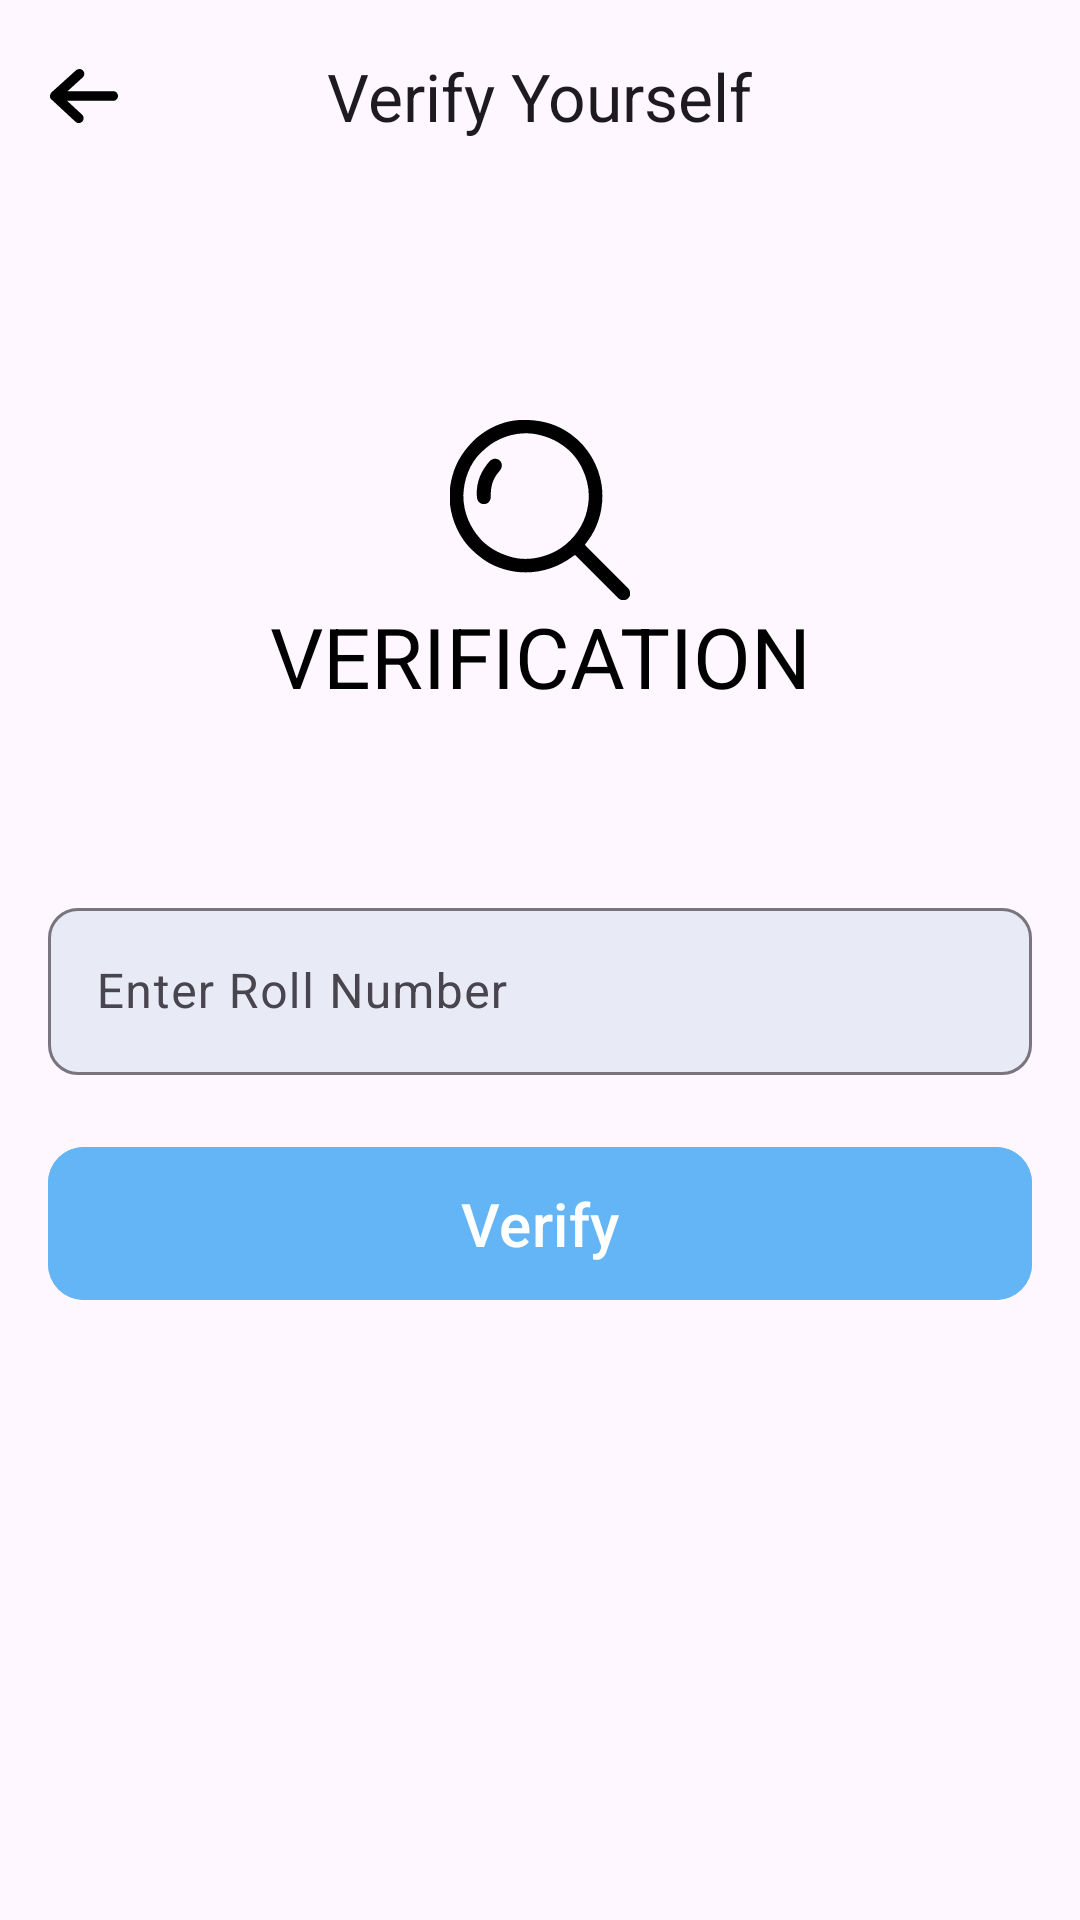

Named icons in this screenshot (1080px×1920px) and their centers, (x=x, y=y):
search: (x=540, y=510)
